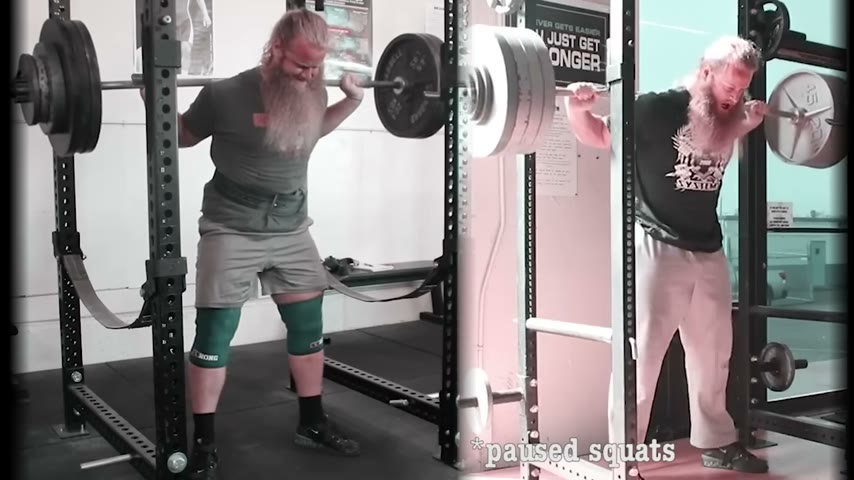barbell_plate_side: (2, 9, 110, 159), (505, 26, 566, 163)
